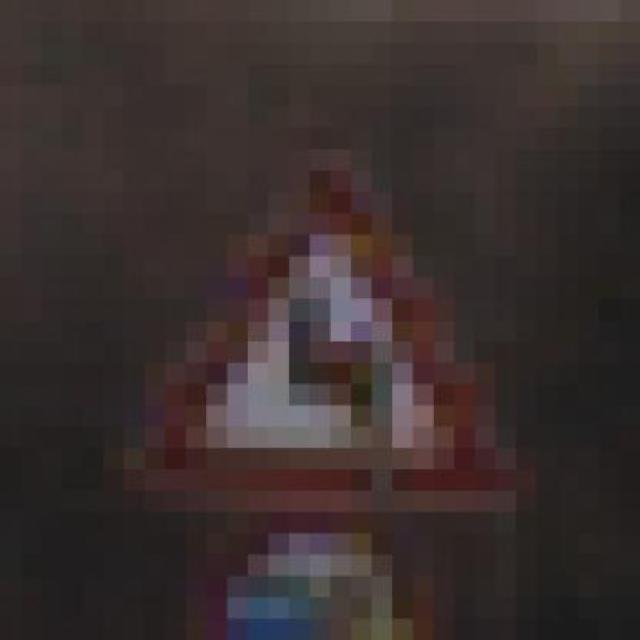Left Zig Zag Traffic: (103, 128, 537, 534)
